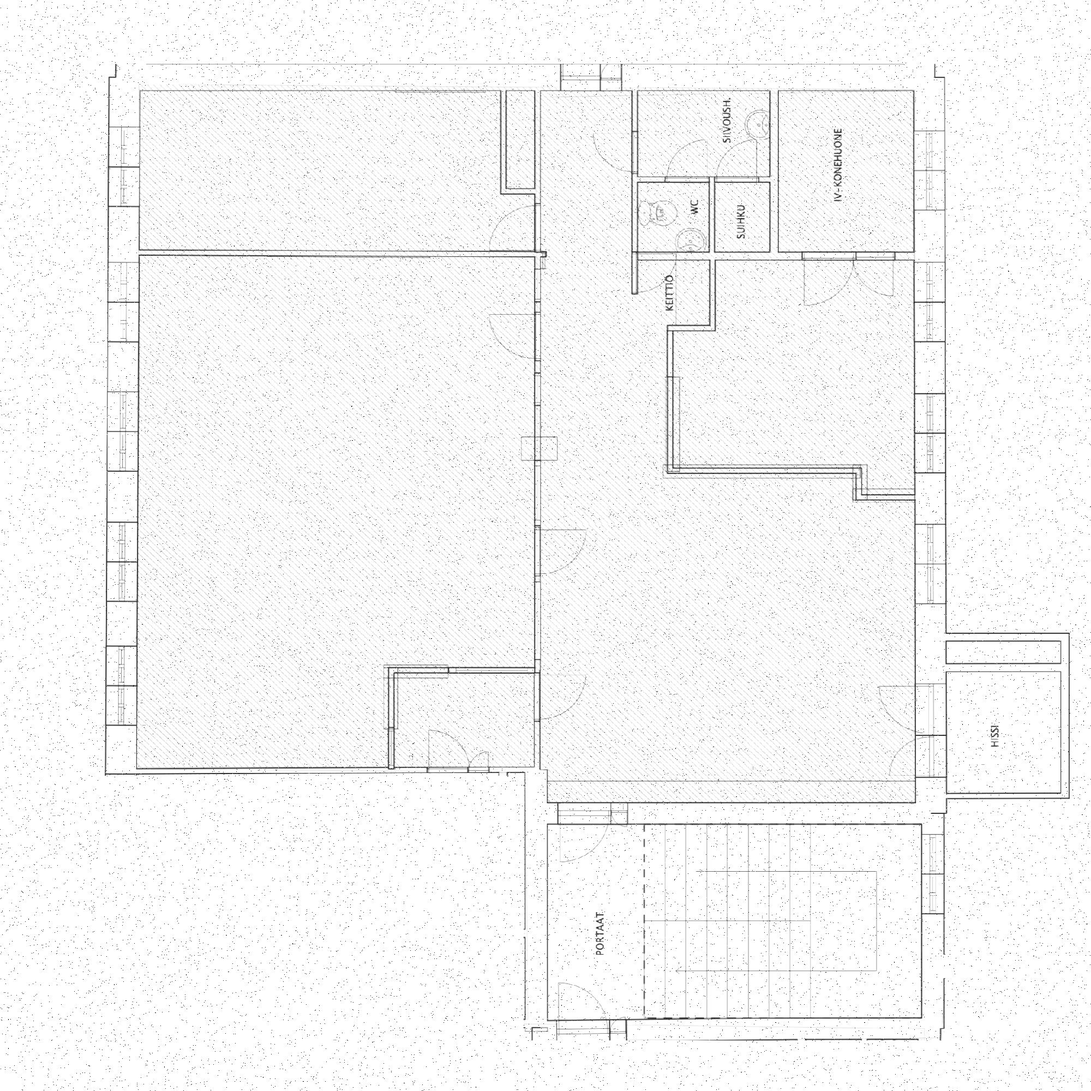wall: (917, 64, 947, 824), (109, 64, 947, 91), (109, 64, 139, 774), (525, 1018, 947, 1042), (549, 802, 947, 824), (525, 767, 549, 1042), (922, 824, 947, 1042), (535, 91, 540, 769), (109, 767, 548, 774), (632, 251, 917, 260), (139, 251, 535, 256), (1061, 633, 1070, 799), (770, 91, 779, 250), (668, 467, 863, 473), (632, 91, 638, 260), (947, 633, 1070, 641), (947, 663, 1061, 671), (668, 325, 674, 473), (947, 793, 1070, 800), (388, 668, 535, 673), (638, 177, 770, 182), (388, 668, 393, 767), (710, 260, 716, 331), (710, 182, 716, 251), (856, 495, 917, 500), (668, 325, 716, 331), (856, 467, 862, 500), (535, 251, 547, 256)
